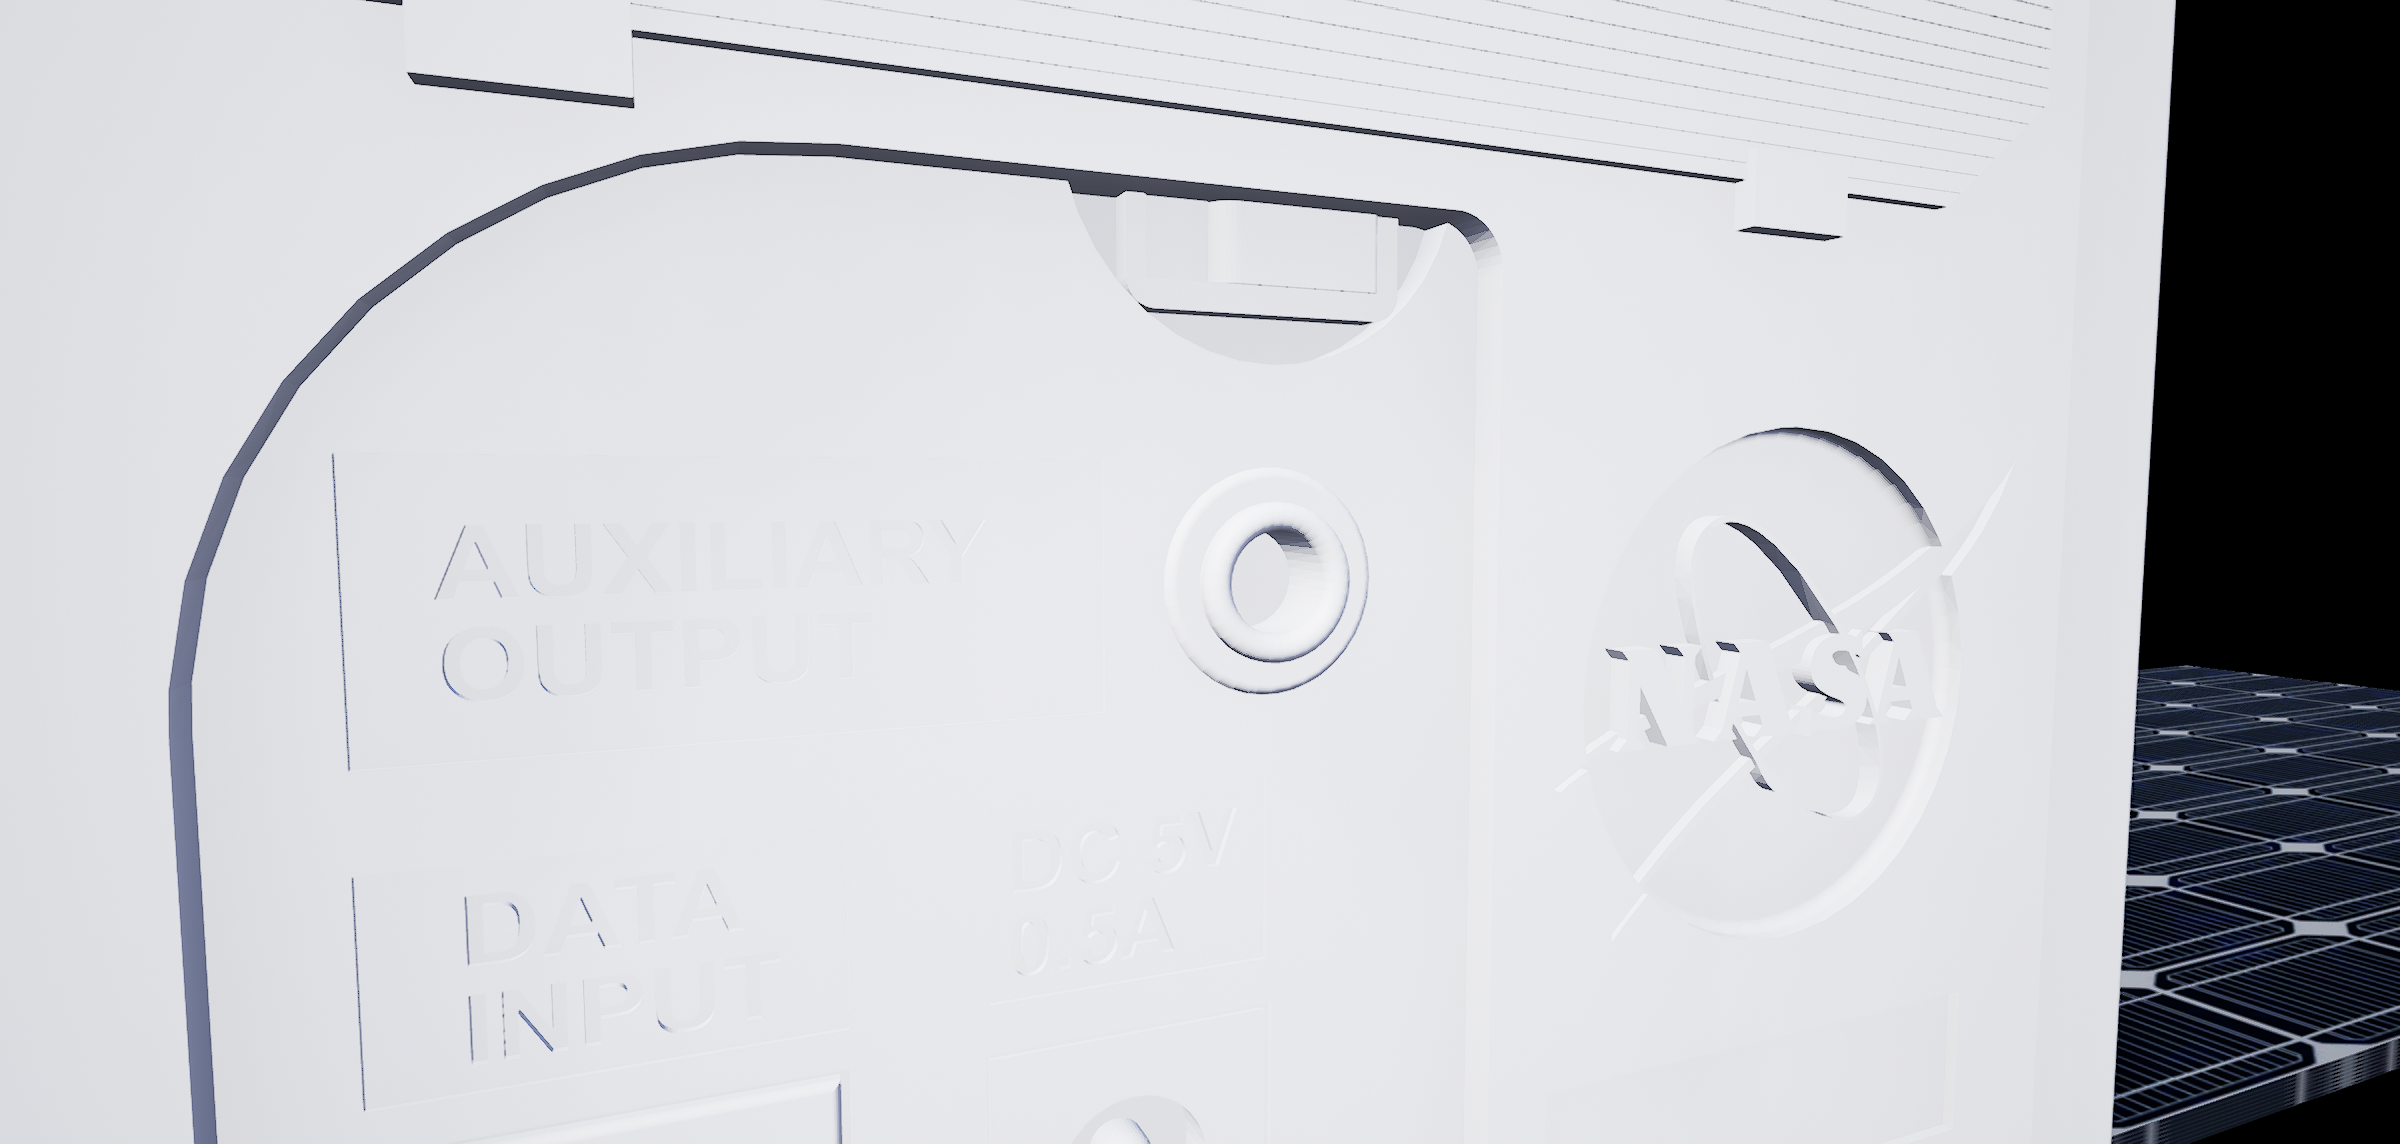aux: (1137, 444, 1393, 714)
dc: (1050, 1087, 1218, 1144)
